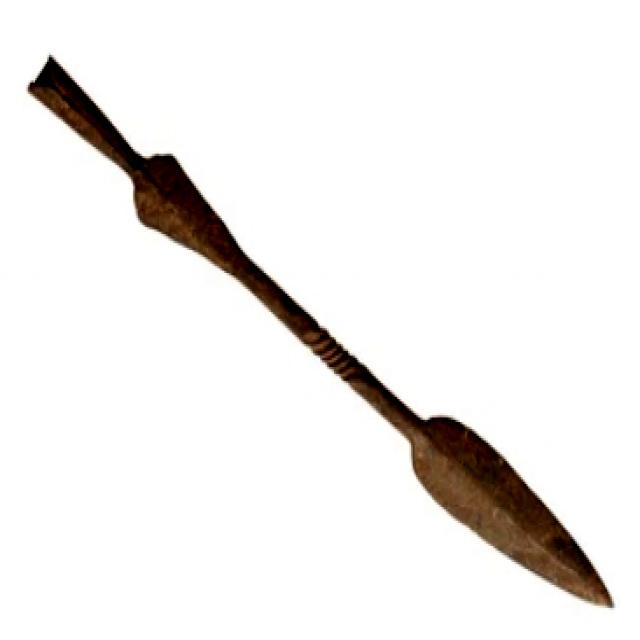spear: (15, 36, 628, 620)
